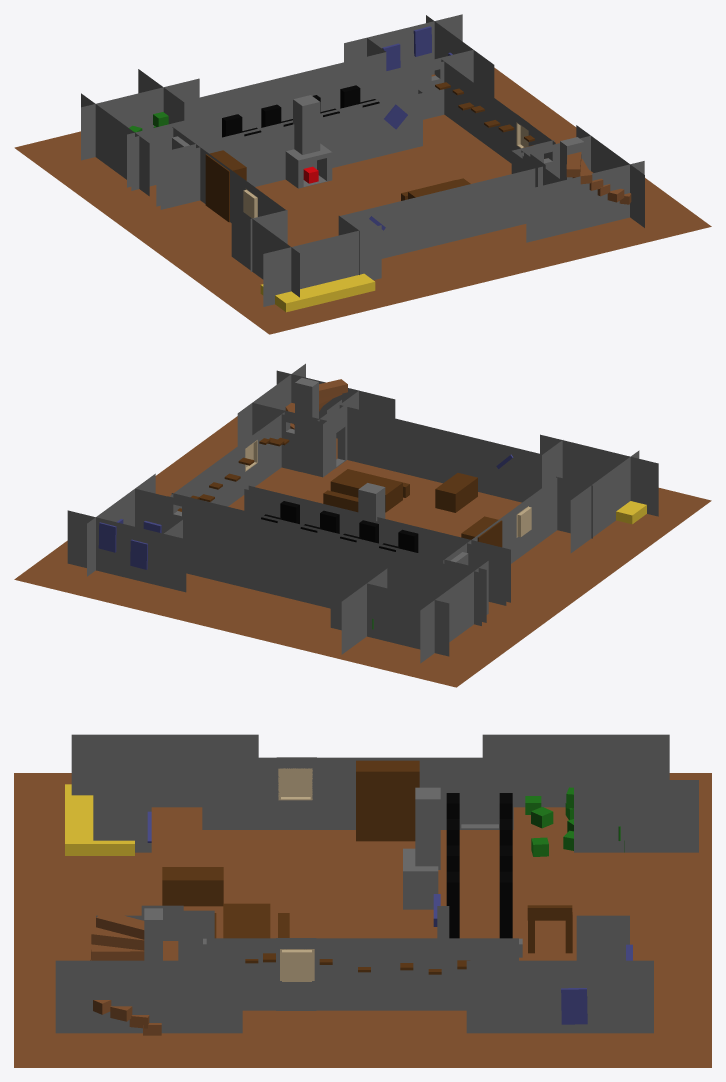
The model's file is SimpleCastle2.fbx.
3 renders of one model, top to bottom at view 1: azimuth 30°, elevation 25°; view 2: azimuth 150°, elevation 25°; view 3: azimuth 270°, elevation 25°, orthographic. The views are drawn at different scales.
Visible parts, largest first — view 1: floor, wall_24, wall_6, wall_23, wall_4, wall_8, wall_19, wall_14, wall_21, wall_3, wall_22, wall_17 (+13 smaller); view 2: floor, wall_6, wall_19, wall_23, wall_24, wall_17, wall_21, wall_4, wall_3, wall_22, wall_14, wall_20 (+21 smaller); view 3: floor, wall_9, wall_16, wall_14, wall_22, wall_3, wall_20, wall_1, weapon_cabinet, door_0, wall_0, wall_5 (+21 smaller).
Boxes of the visible parts, <box> form: floor: <box>14,67,711,334</box>; wall_24: <box>156,89,422,209</box>; wall_6: <box>340,166,542,258</box>; wall_23: <box>127,63,428,190</box>; wall_4: <box>263,225,381,306</box>; wall_8: <box>526,161,644,242</box>; wall_19: <box>183,52,386,120</box>; wall_14: <box>441,59,516,163</box>; wall_21: <box>81,78,199,160</box>; wall_3: <box>231,204,299,297</box>; wall_22: <box>81,93,149,196</box>; wall_17: <box>344,14,462,74</box>; floor: <box>14,416,711,687</box>; wall_6: <box>339,405,542,502</box>; wall_19: <box>183,519,385,608</box>; wall_23: <box>185,497,486,625</box>; wall_24: <box>244,485,510,605</box>; wall_17: <box>67,510,186,592</box>; wall_21: <box>330,574,449,656</box>; wall_4: <box>540,434,658,516</box>; wall_3: <box>570,450,639,553</box>; wall_22: <box>420,561,488,663</box>; wall_14: <box>170,441,245,509</box>; wall_20: <box>341,568,387,654</box>; floor: <box>14,773,711,1067</box>; wall_9: <box>55,960,242,1033</box>; wall_16: <box>466,960,653,1033</box>; wall_14: <box>314,938,518,1010</box>; wall_22: <box>482,734,669,807</box>; wall_3: <box>71,734,258,807</box>; wall_20: <box>574,780,698,852</box>; wall_1: <box>202,757,279,829</box>; weapon_cabinet: <box>356,760,419,841</box>; door_0: <box>442,757,513,829</box>; wall_0: <box>312,757,442,829</box>; wall_5: <box>93,780,151,852</box>.
Bounding box in the file's own units: 2613 × 497 × 2613.
